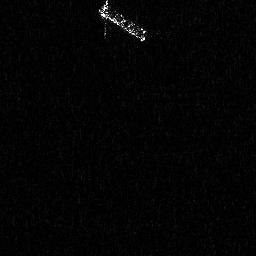ship: (95, 1, 148, 43)
